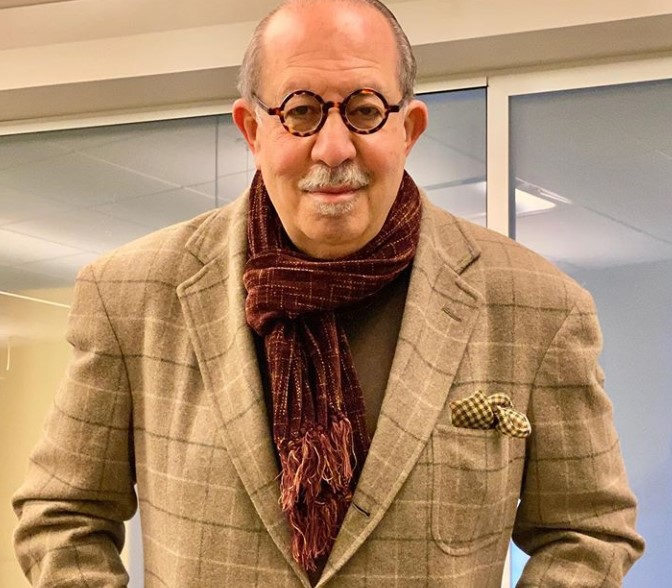face_no_mask: (249, 13, 412, 244)
